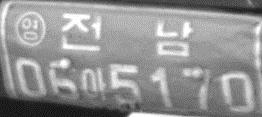0: (219, 71, 254, 113), (16, 58, 45, 98)
1: (147, 64, 177, 108)
5: (109, 61, 143, 105)
6: (48, 61, 78, 100)
7: (181, 67, 212, 112)
아: (78, 66, 107, 100)
영: (13, 10, 48, 46)
전남_D: (60, 12, 193, 57)
